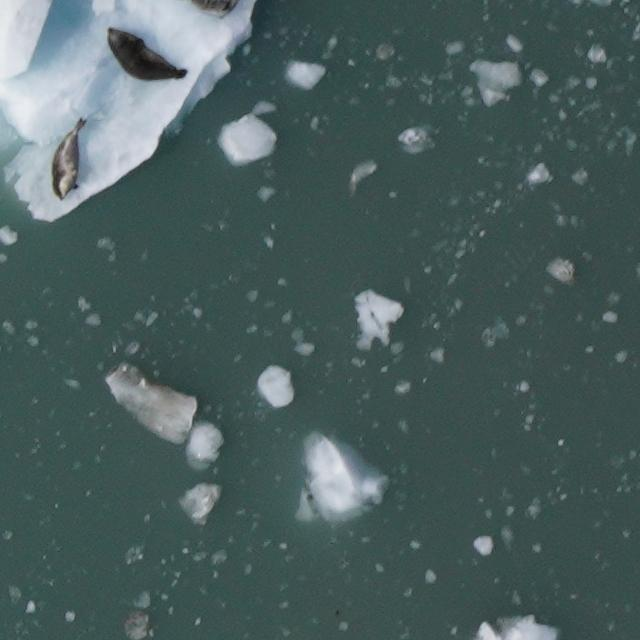seal: (104, 23, 190, 83), (48, 114, 91, 204)
